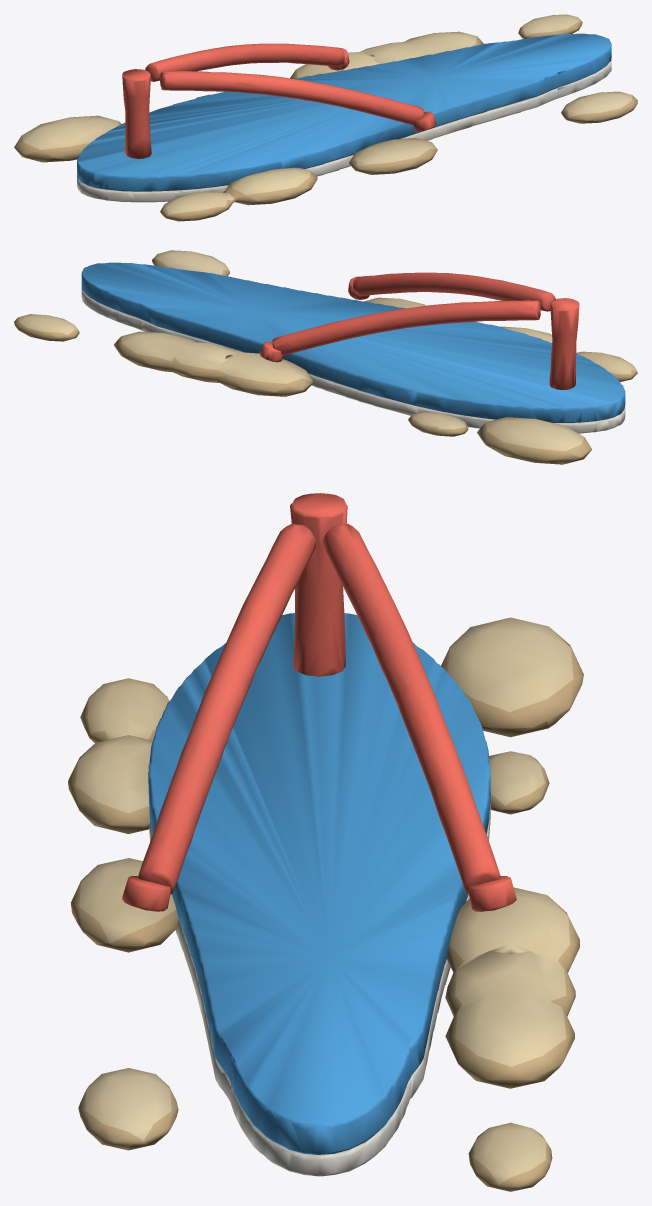
File: shore_flipflop_lod1.glb
The picture shows the model from 3 angles, top to bottom: view 1: azimuth 30°, elevation 25°; view 2: azimuth 150°, elevation 25°; view 3: azimuth 270°, elevation 25°; orthographic projection. The views are drawn at different scales.
Parts seen in each view (by area): view 1: shore_flipflop.001; view 2: shore_flipflop.001; view 3: shore_flipflop.001.
Part boxes in pixels (bbox=[...]): shore_flipflop.001: bbox=[14, 14, 637, 221]; shore_flipflop.001: bbox=[14, 250, 637, 464]; shore_flipflop.001: bbox=[68, 493, 583, 1191].
Size of the model in its own units: 48.8 by 9.19 by 19.45.
